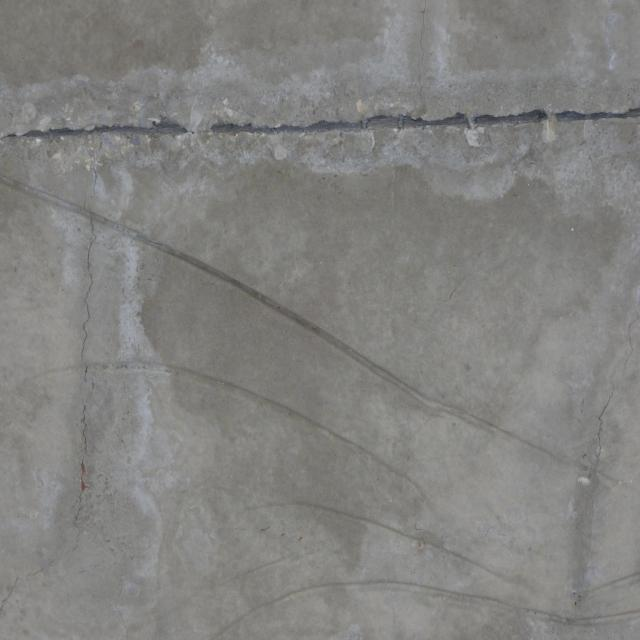horizontal crack: (1, 104, 640, 163)
vertical crack: (571, 315, 640, 611), (70, 130, 110, 531), (416, 0, 430, 110)
